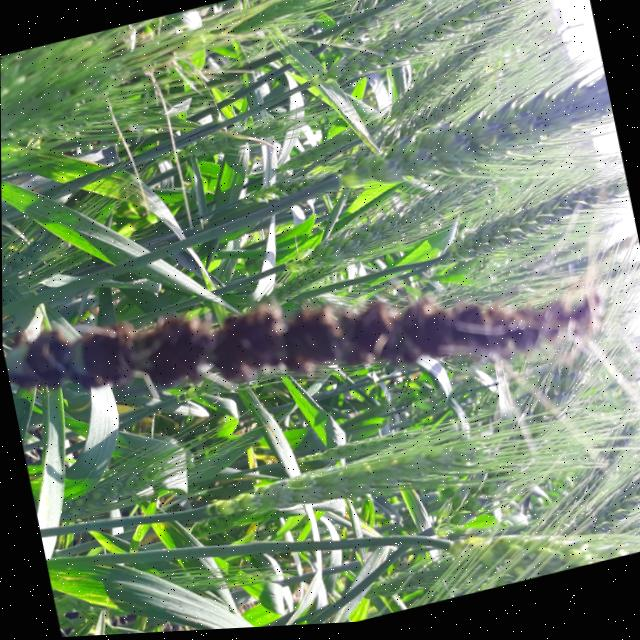loose_charred: (1, 177, 621, 560)
yellow_rust: (2, 114, 107, 199), (48, 548, 146, 638), (101, 161, 173, 260), (233, 428, 285, 495), (334, 490, 380, 560), (234, 510, 274, 561), (401, 363, 434, 406), (76, 613, 134, 637)
